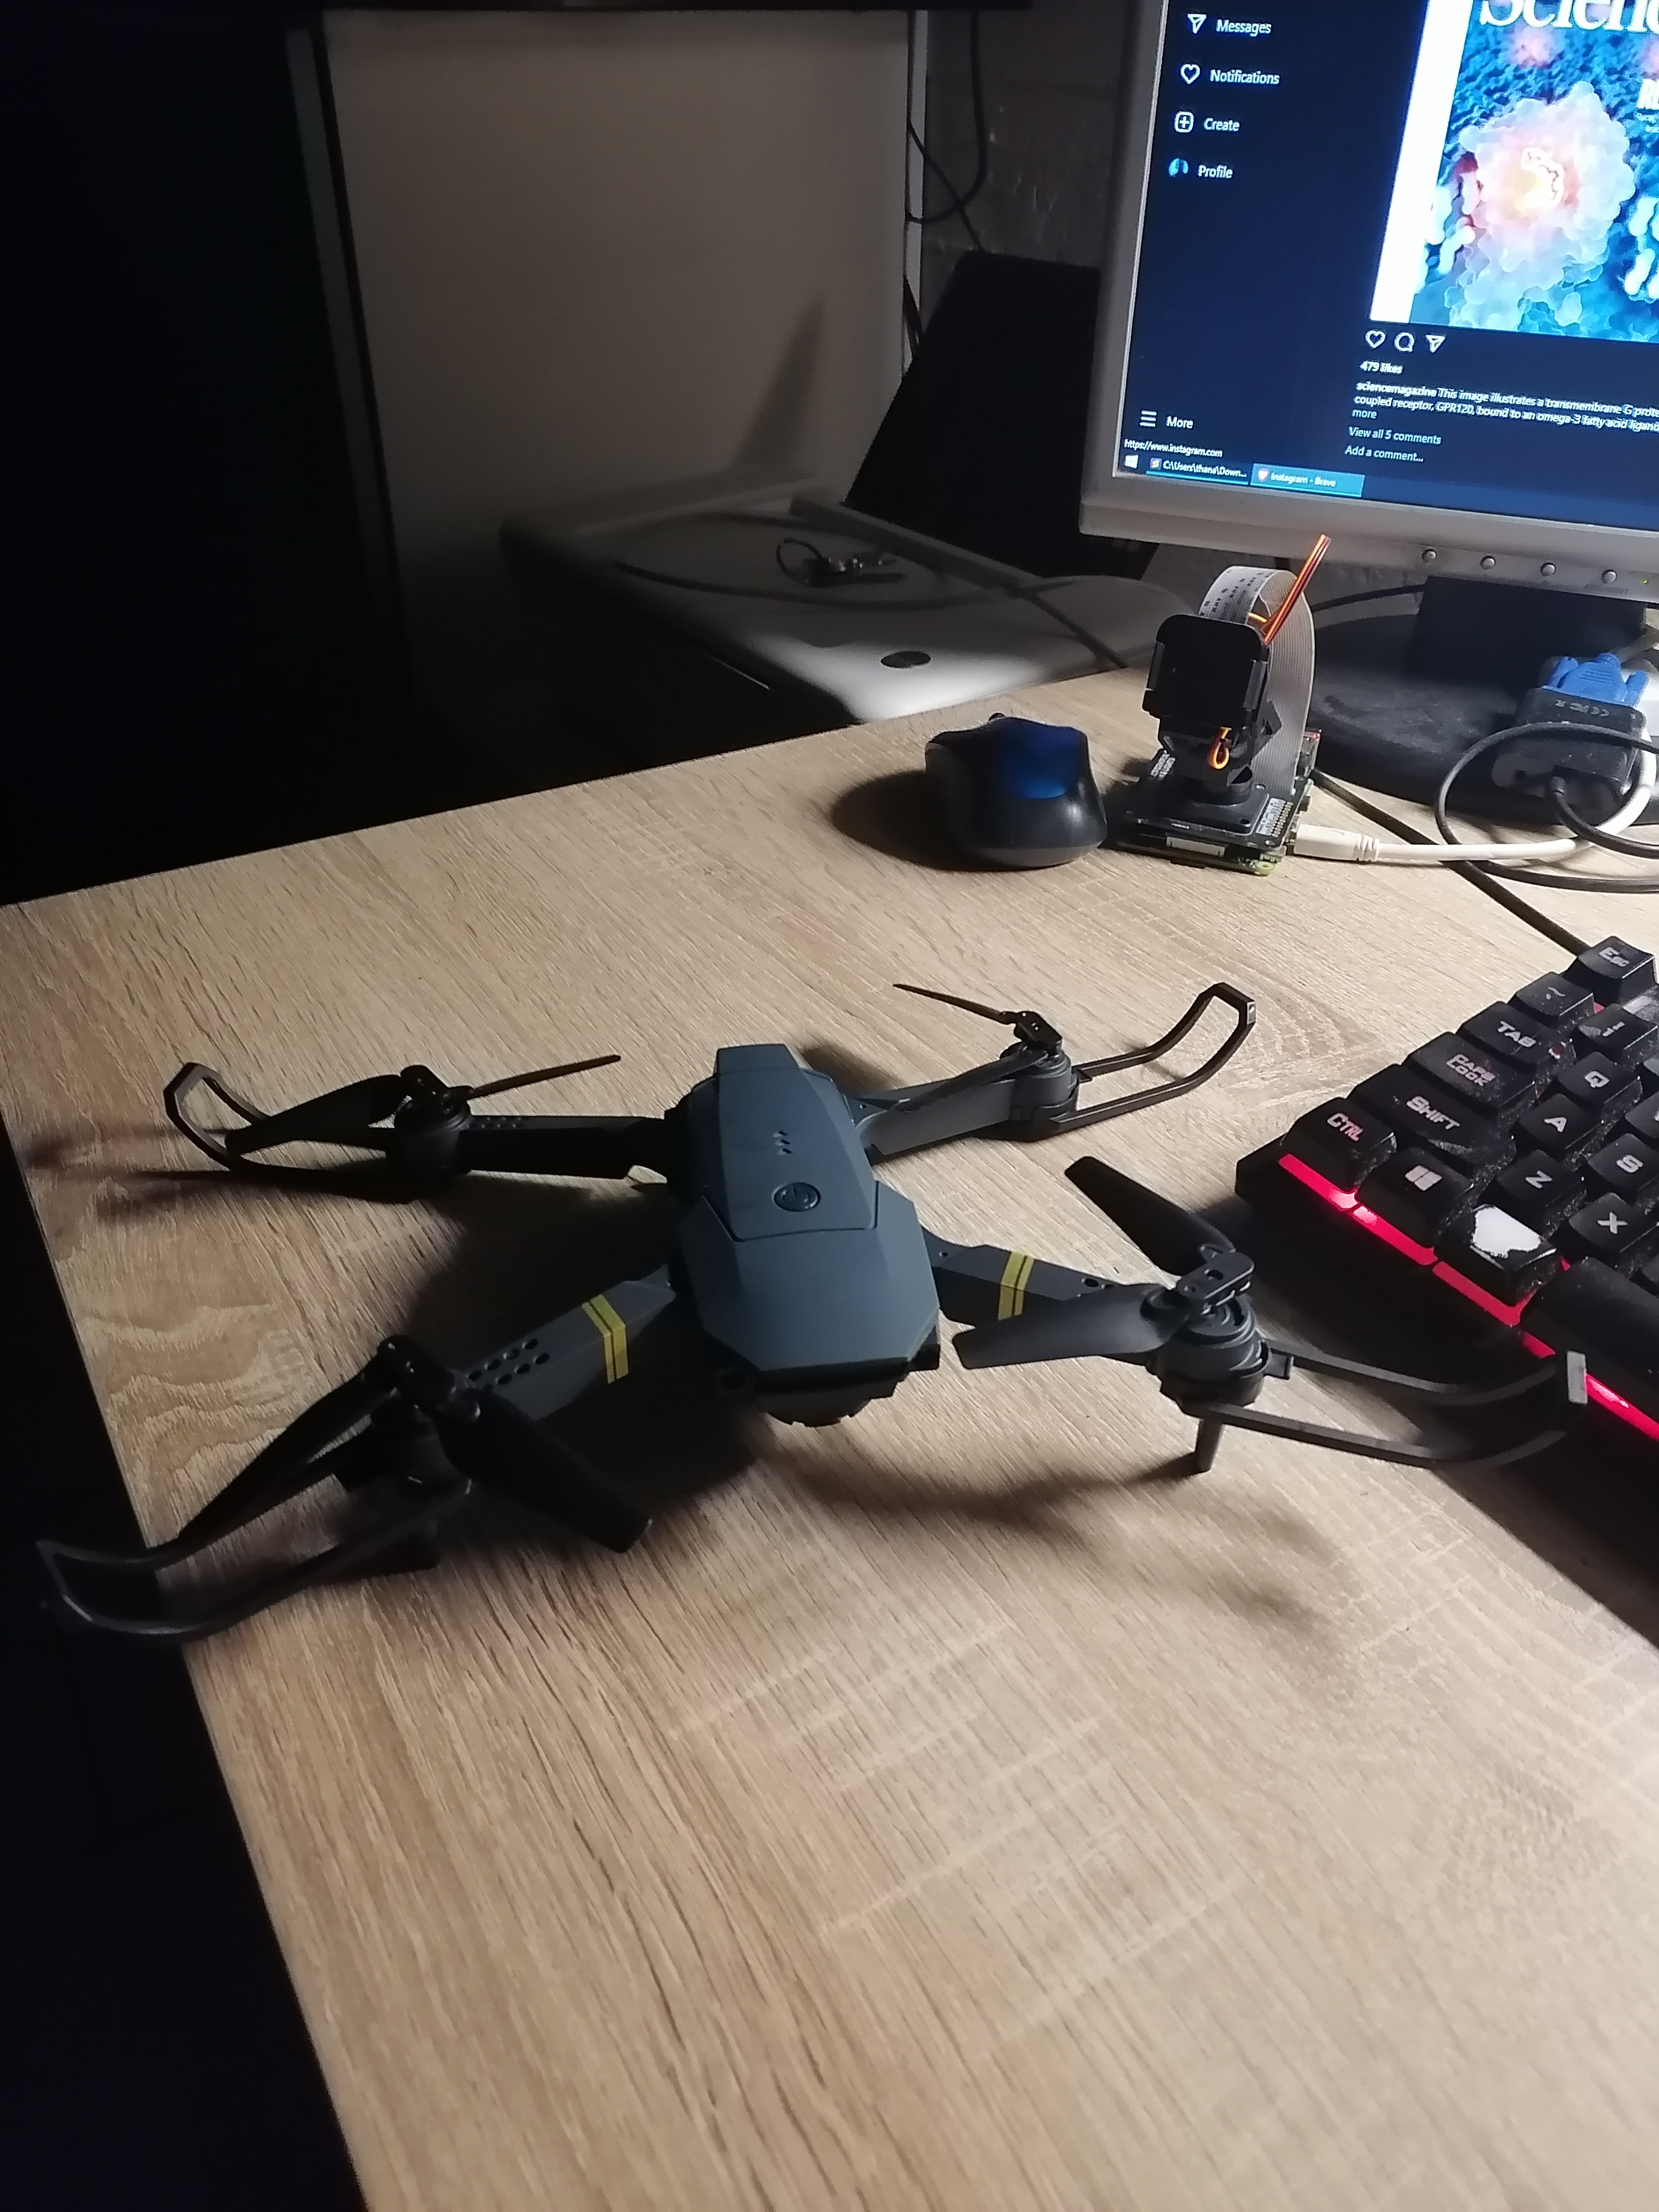drone: (71, 1008, 1584, 1569)
